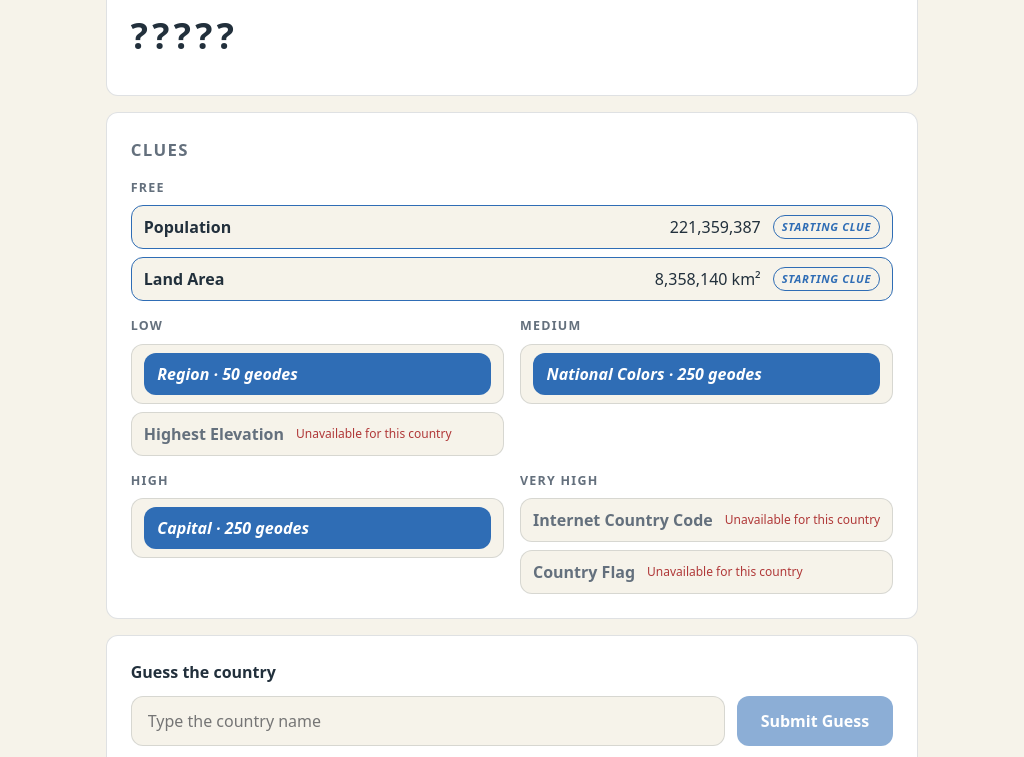
Scenario: GameScreen › disables clue purchases while a solved turn waits for the next round
The image size is (1024, 757).
(page scrolled)
Click the button "Region · 50 geodes" at {"x": 183, "y": 374}, box [144,353,491,394]
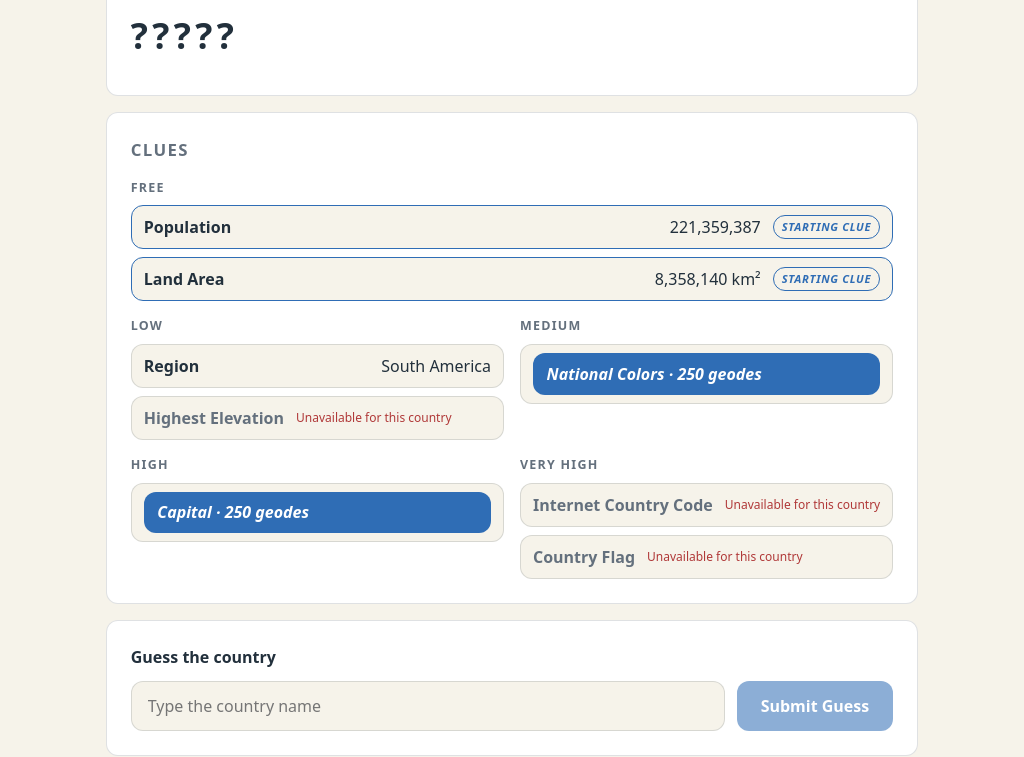
expect the text "South America" is shown: met, box [381,354,491,378]
Type "Brazil" into the field labelled "Guess the country" at {"x": 428, "y": 706}, box [131,681,725,731]
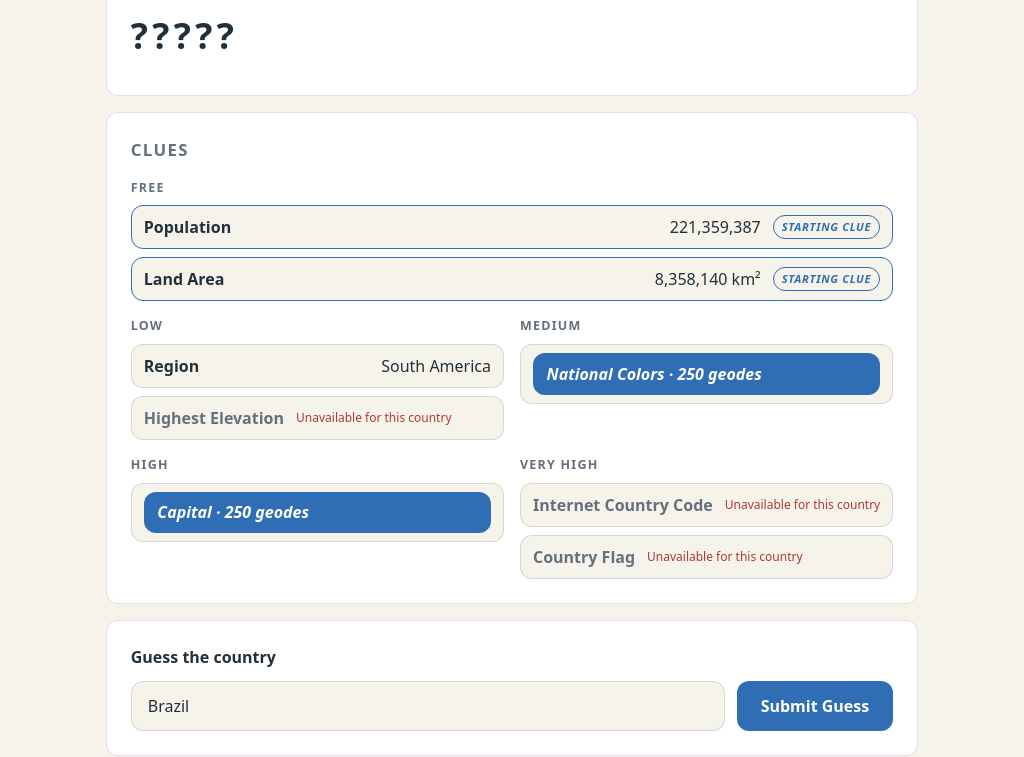
Click the button "Submit Guess" at {"x": 815, "y": 706}, box [737,681,893,731]
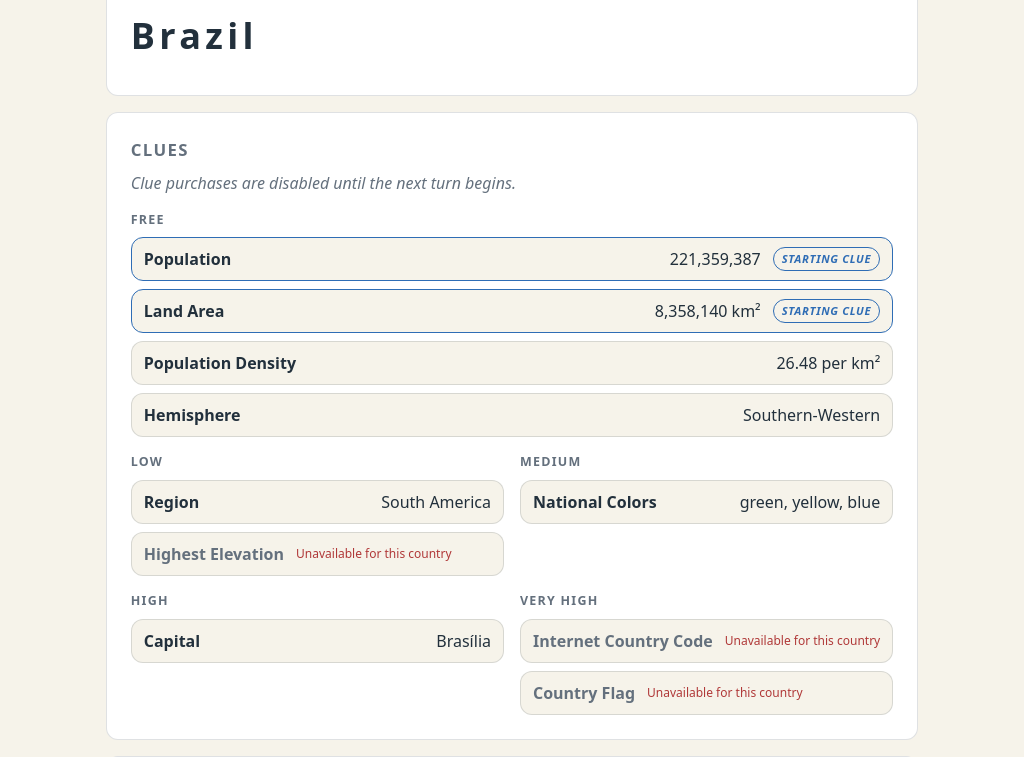
expect the text "South America" is shown: met, box [381,490,491,514]
expect the text "Clue purchases are disabled until the next turn begins." is shown: met, box [131,172,516,194]
